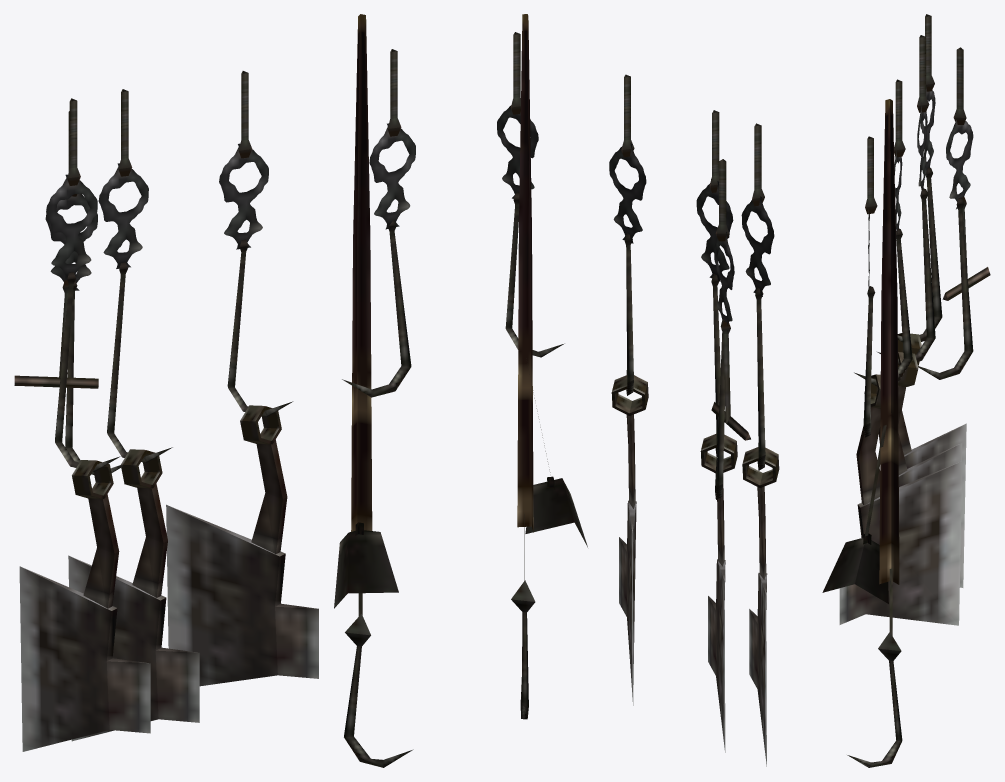
Rendered from 铁匠铺-挂01.fbx.
The picture shows the model from 3 angles, left to right: view 1: azimuth 30°, elevation 25°; view 2: azimuth 150°, elevation 25°; view 3: azimuth 270°, elevation 25°; orthographic projection. The views are drawn at different scales.
Visible parts, largest first — view 1: qingmo_obj_031 [10484783]; view 2: qingmo_obj_031 [10484783]; view 3: qingmo_obj_031 [10484783].
Part boxes in pixels (x1=…): qingmo_obj_031 [10484783]: x1=14, y1=14, x2=415, y2=767; qingmo_obj_031 [10484783]: x1=497, y1=14, x2=779, y2=766; qingmo_obj_031 [10484783]: x1=822, y1=14, x2=990, y2=767.
Bounding box in the file's own units: 6.99 × 2.98 × 12.97.
Materials: 1 (1 with a texture image).
